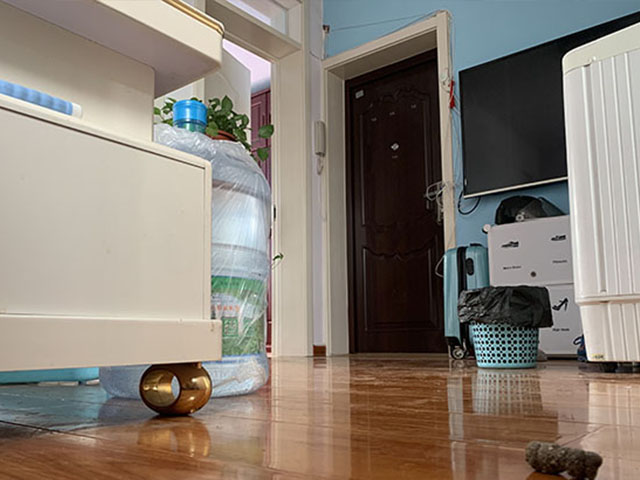feces: (522, 437, 605, 478)
table: (2, 1, 228, 423)
trashcan: (456, 282, 554, 368)
